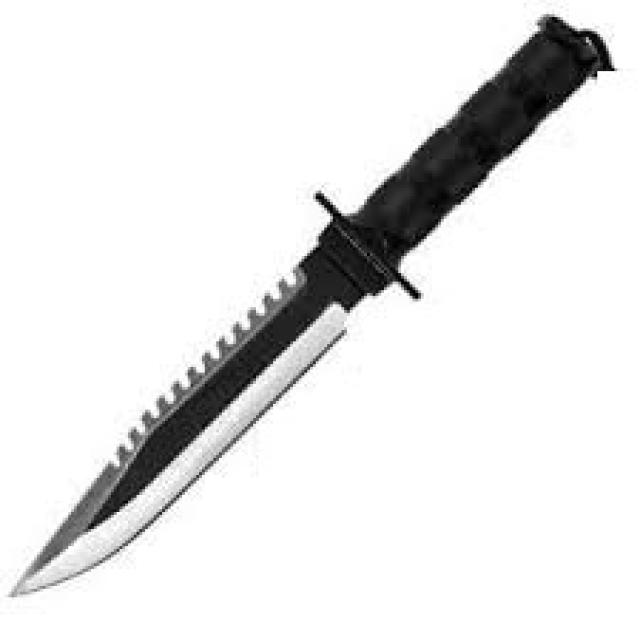knife: (6, 8, 608, 606)
